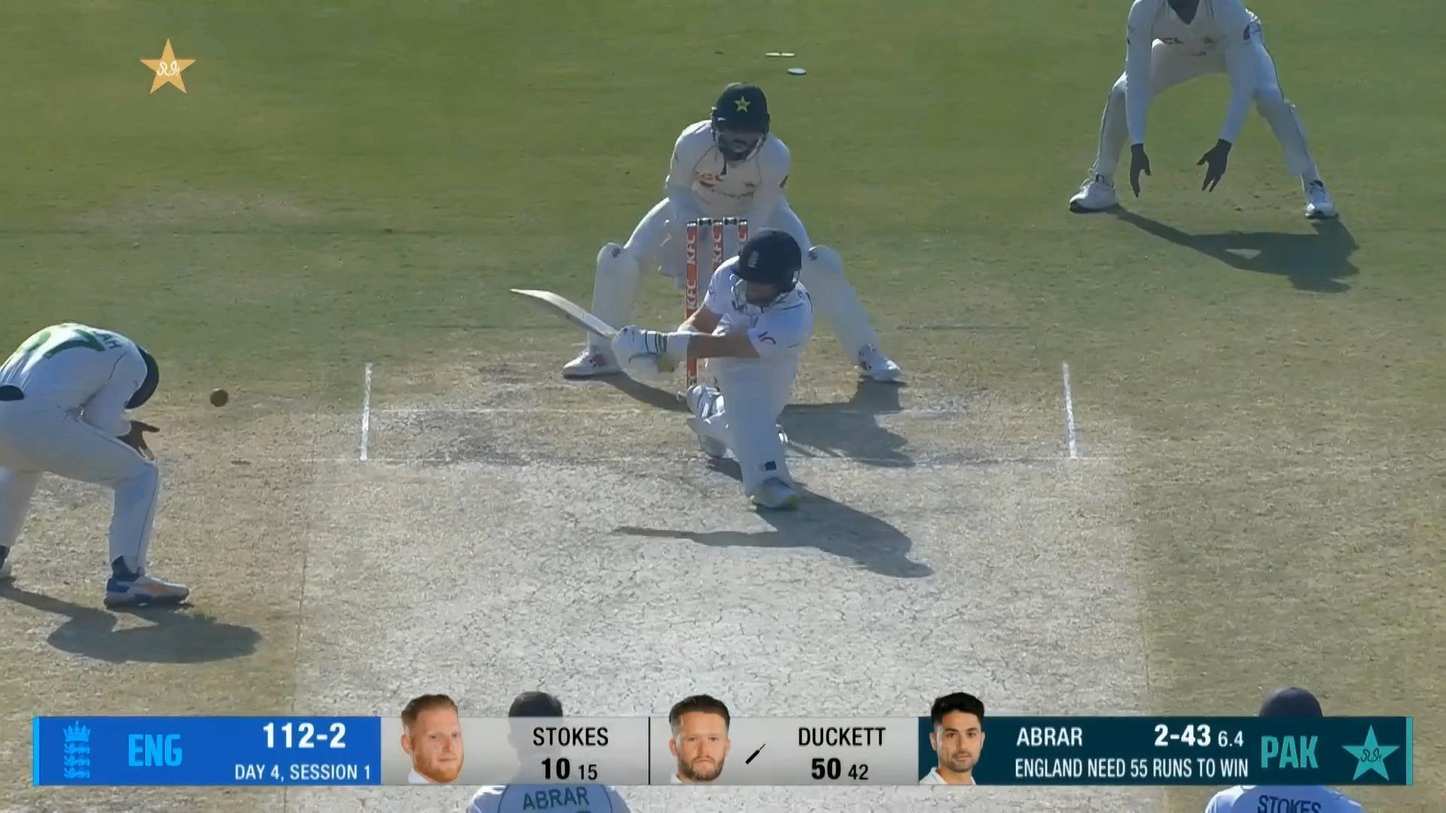BM 1: (506, 230, 813, 514)
BO: (464, 687, 635, 813)
